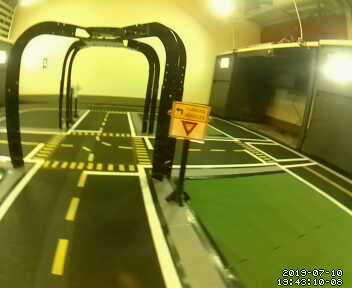Turn Yield: (169, 100, 211, 147)
